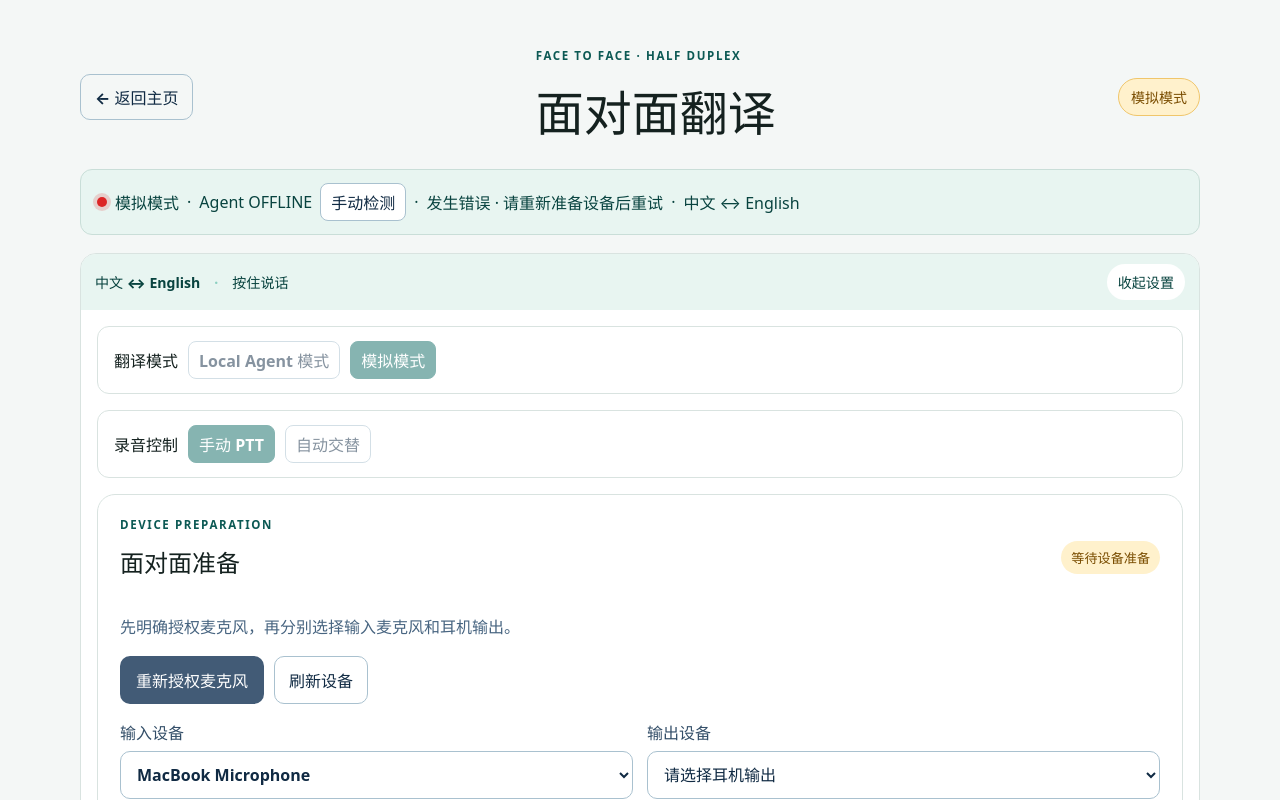
FaceToFacePage › recovers from an external error after a successful ready device selection
Select "AirPods" in the dropdown labelled "输出设备": point(904, 775) [647,751,1160,799]
(page scrolled)
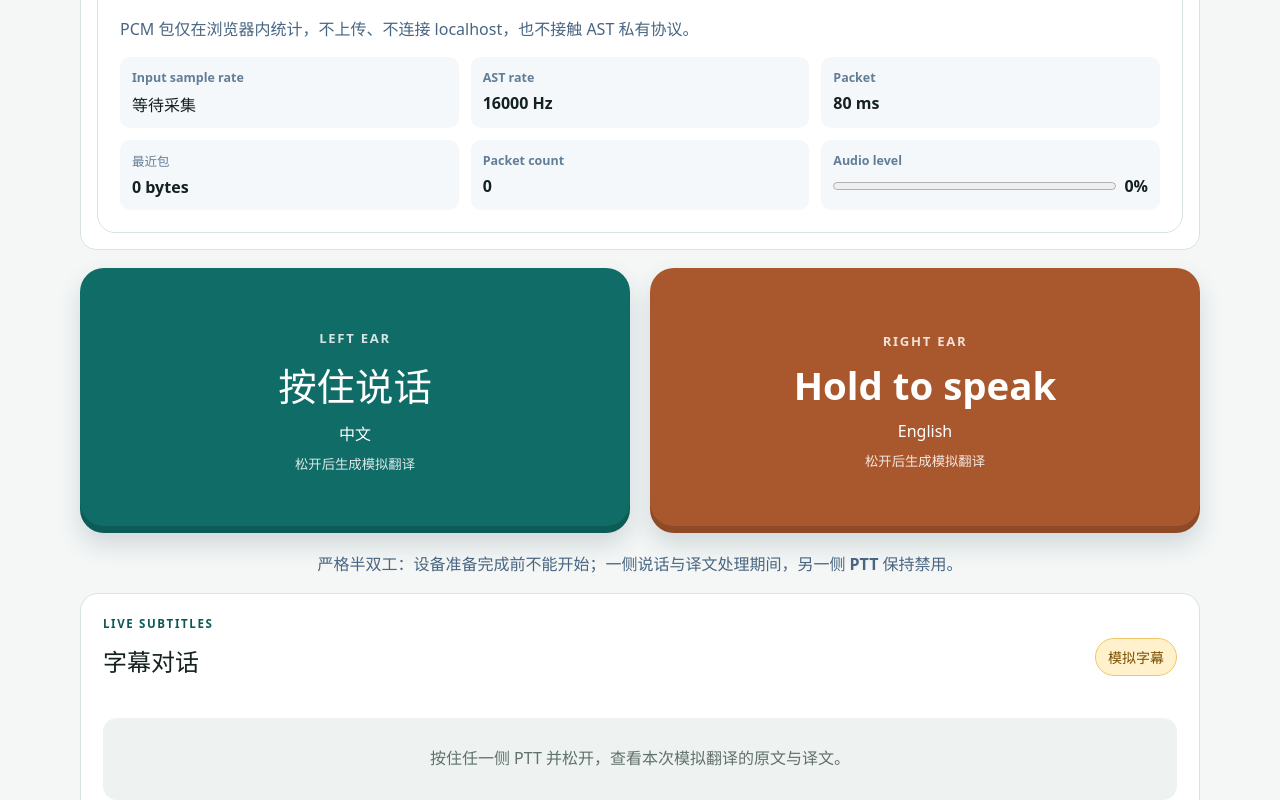
Expected: the button "LEFT EAR 按住说话 中文 松开后生成模拟翻译" is enabled, [80,268,630,533]
